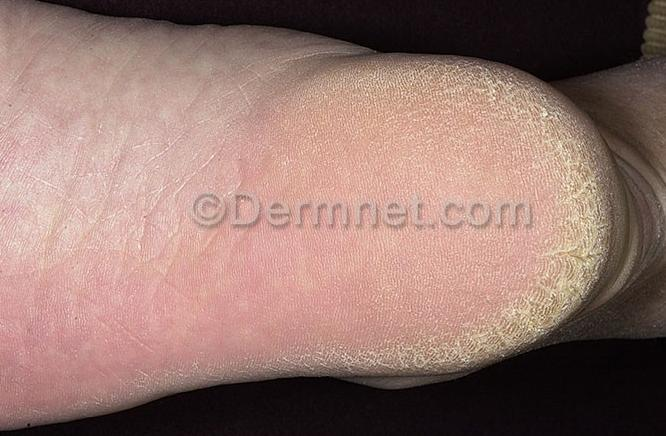xerosis 2: (0, 58, 608, 430)
